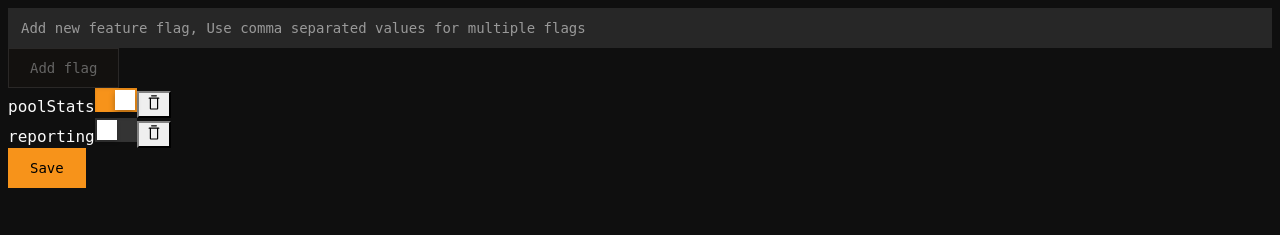
Test case: FeatureFlagsSettings › adds a new flag via input
Step 1. Replace the text in the field with placeholder "Add new feature flag" with "newFlag" → (640, 28), box [8, 8, 1272, 48]
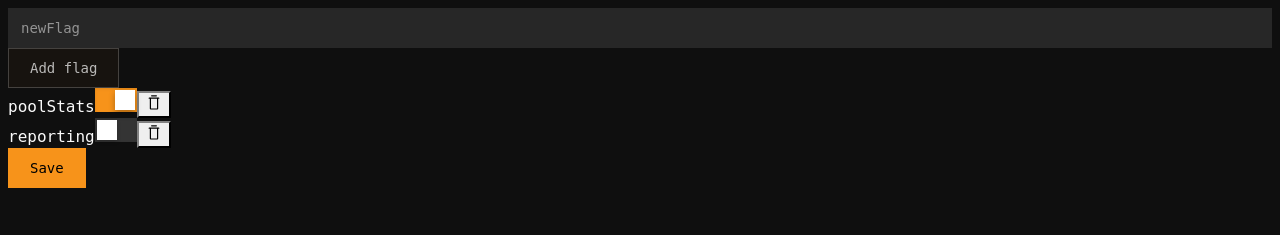
Step 2. Click the button "Add flag" → (64, 68), box [8, 48, 119, 88]
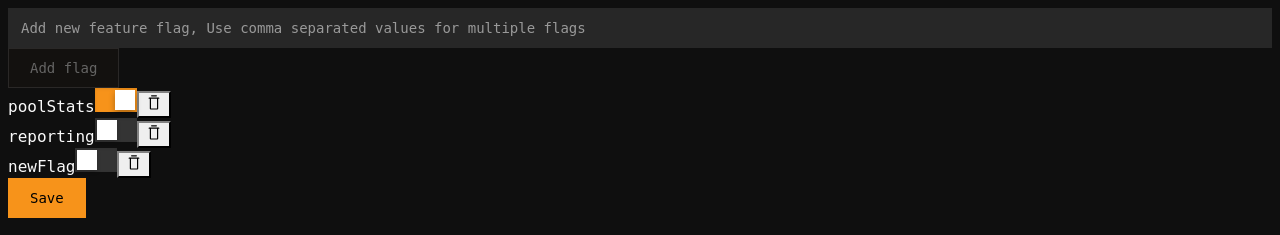
Expected: the text "newFlag" is shown, [8, 157, 75, 176]
